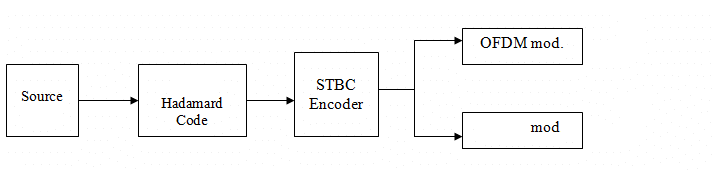arrow: (380, 36, 461, 92), (378, 87, 461, 141), (80, 95, 140, 106), (245, 94, 293, 106)
process: (136, 62, 250, 140), (292, 49, 380, 140), (3, 62, 81, 139), (460, 109, 586, 152), (460, 26, 585, 67)
text: (305, 77, 364, 114), (159, 96, 226, 127), (478, 34, 566, 52), (20, 88, 63, 104), (528, 120, 561, 135)
